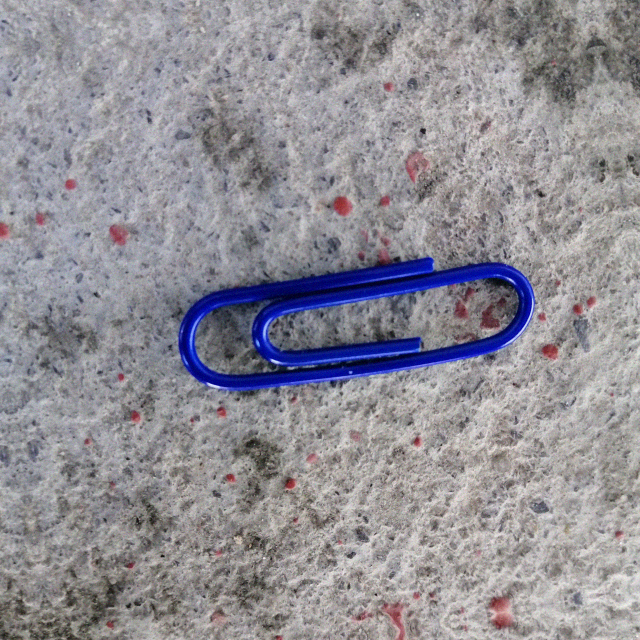pin: (178, 244, 536, 405)
